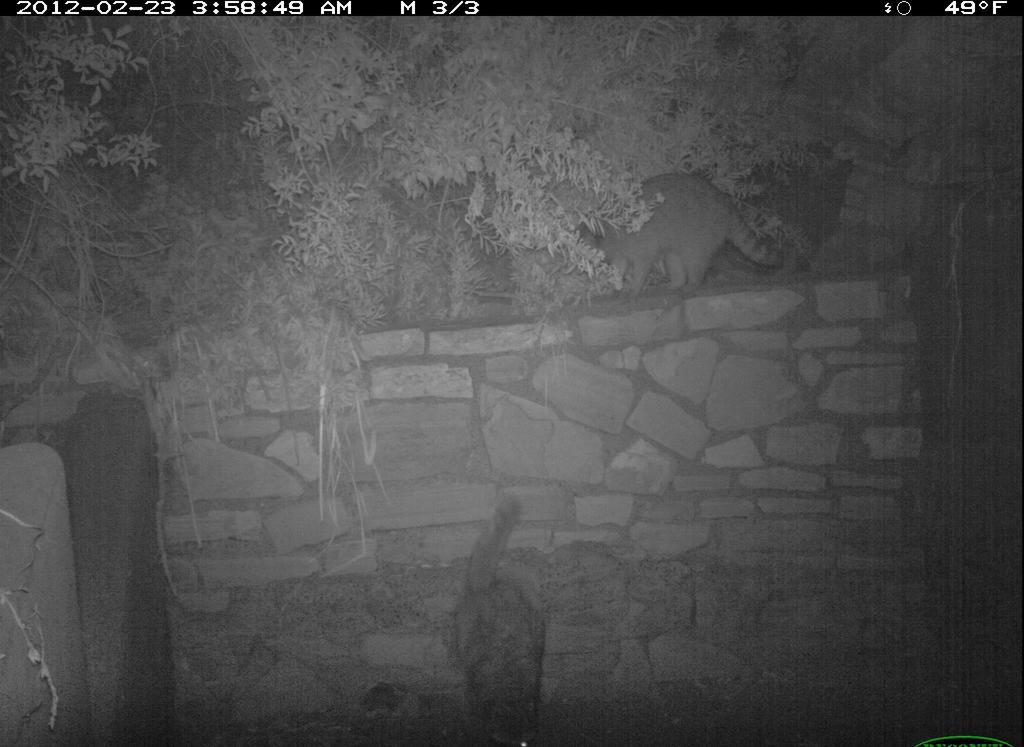raccoon: (565, 173, 795, 310), (436, 497, 556, 745)
